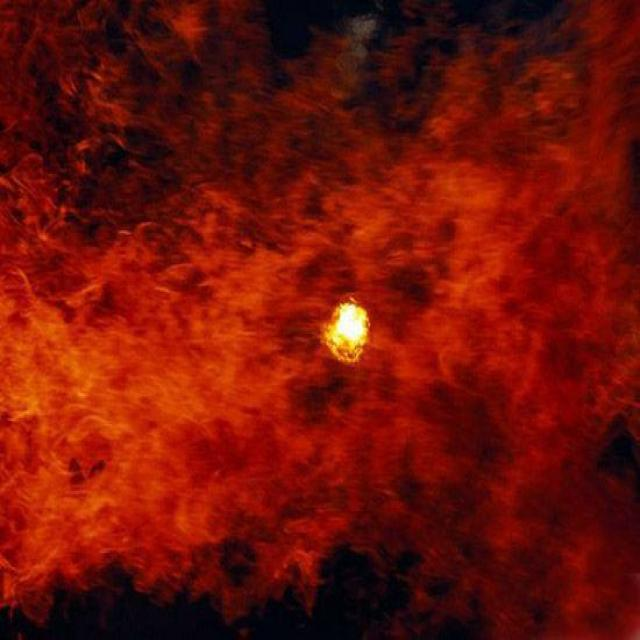fire: (0, 78, 634, 637)
